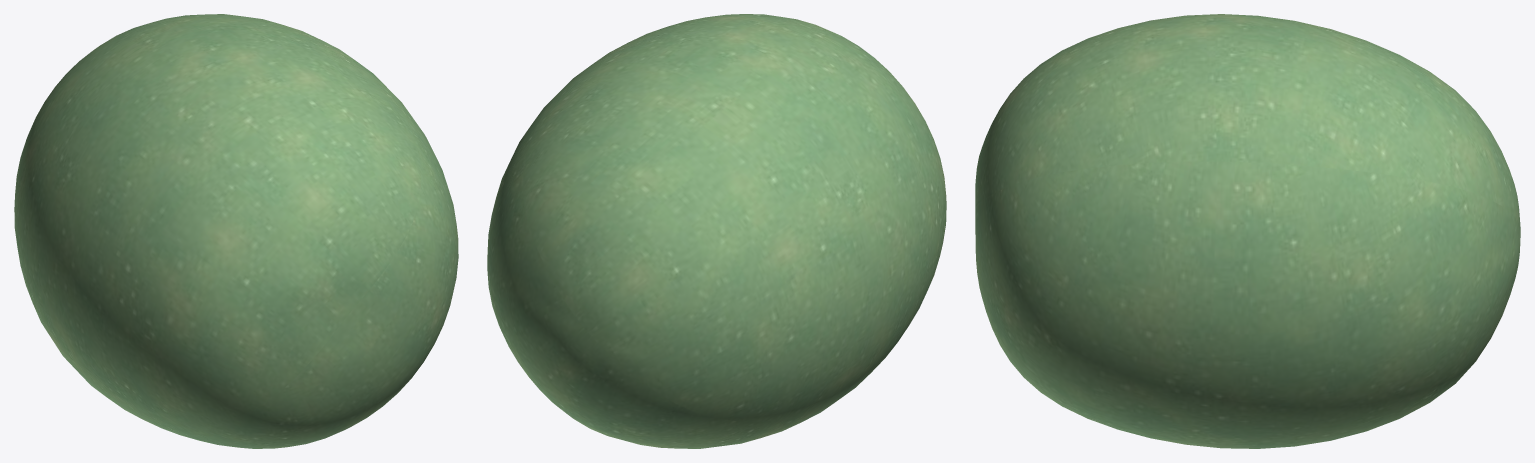
The model's file is GreenGrapeFlesh.obj.
3 views of the same model, side by side, from view 1: azimuth 30°, elevation 25°; view 2: azimuth 150°, elevation 25°; view 3: azimuth 270°, elevation 25° (orthographic). The views are drawn at different scales.
Visible parts, largest first — view 1: GreenGrapeFlesh; view 2: GreenGrapeFlesh; view 3: GreenGrapeFlesh.
Part boxes in pixels (x1,y1,x2,y2): GreenGrapeFlesh: (14,14,458,448); GreenGrapeFlesh: (487,14,946,448); GreenGrapeFlesh: (975,14,1520,448).
Bounding box in the file's own units: 0.021 × 0.0208 × 0.0259.
1 material, 1 textured.
